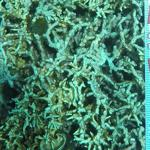dead: (5, 5, 140, 146)
